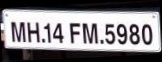character: (10, 21, 26, 43), (82, 22, 98, 44), (26, 22, 39, 43), (68, 22, 80, 44), (52, 22, 64, 43), (116, 23, 127, 45), (128, 23, 139, 45), (104, 23, 115, 44), (141, 24, 152, 45), (43, 22, 51, 44)
